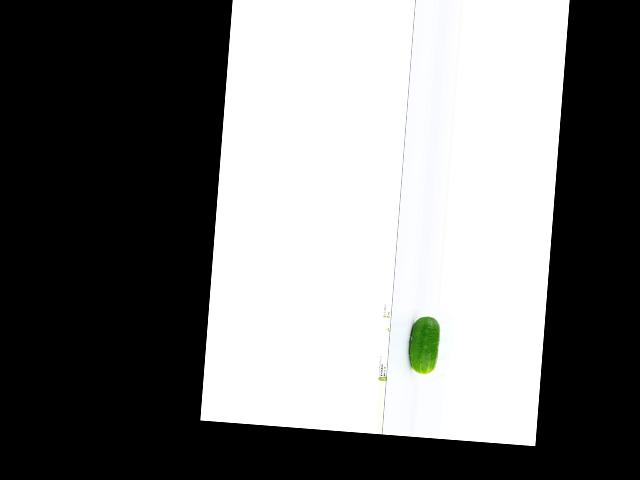cucumber: (407, 315, 440, 374)
